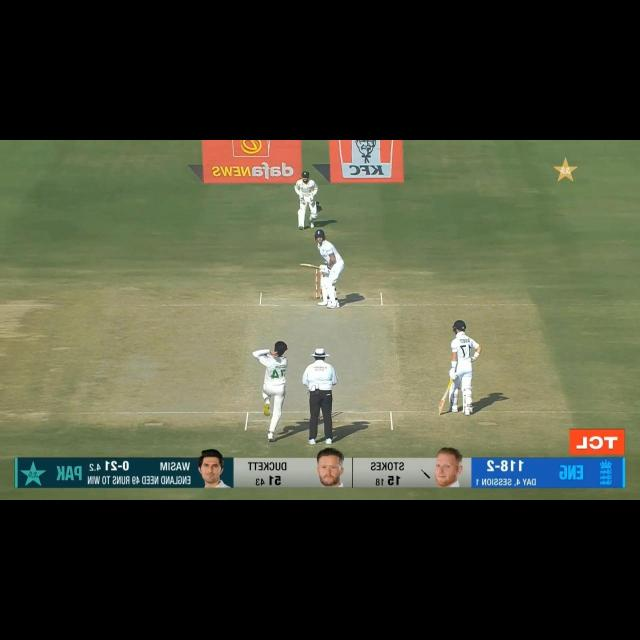bat: (434, 386, 452, 416), (298, 262, 320, 271)
toe: (435, 406, 444, 416), (298, 262, 306, 268)
